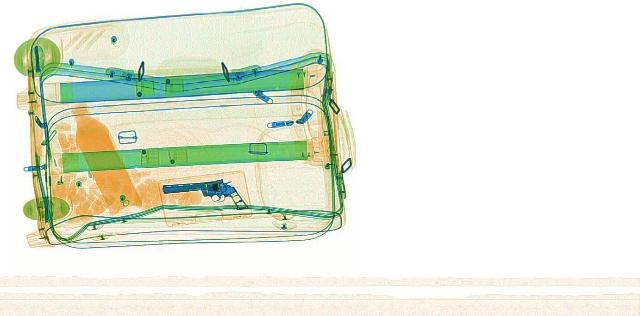Gun: (157, 176, 256, 213)
